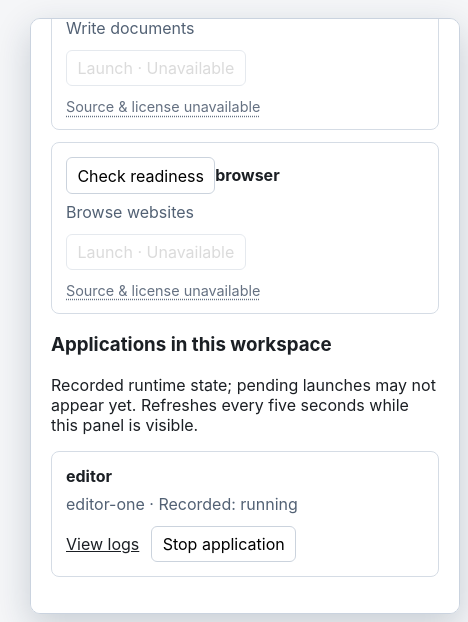
Scenario: confirms before stopping and preserves the exact runtime target
(page scrolled)
Click the button with aria-label "Stop editor-one". click: [224, 544]
box: [151, 526, 296, 562]
(page scrolled)
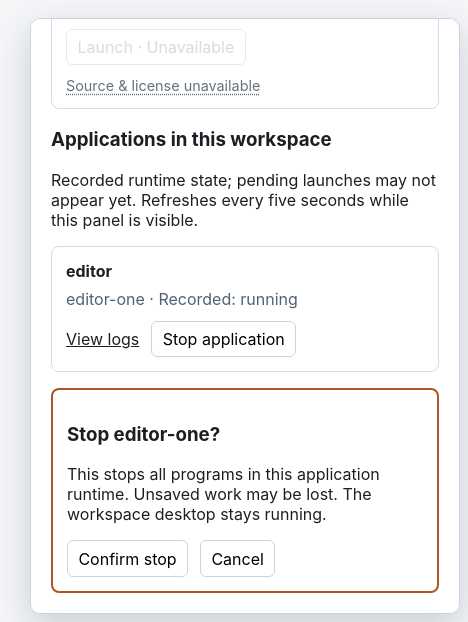
Expected: the element named "Confirm application stop" shows "workspace desktop stays running", [67, 464, 380, 524]
Click the button "Confirm stop". click: [128, 558]
box: [67, 540, 188, 577]
(page scrolled)
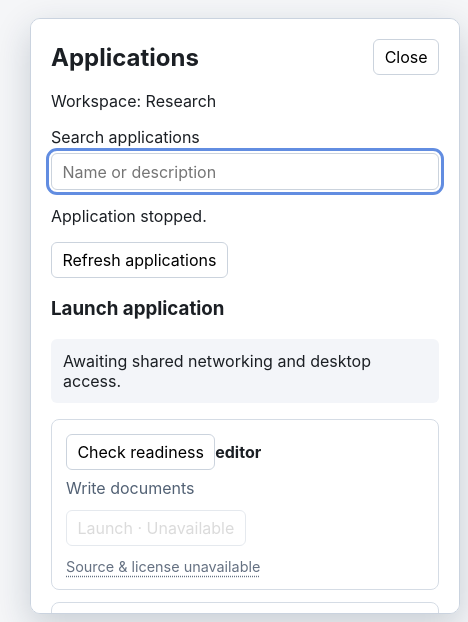
Expected: the text "Application stopped." is shown, [51, 206, 207, 226]
